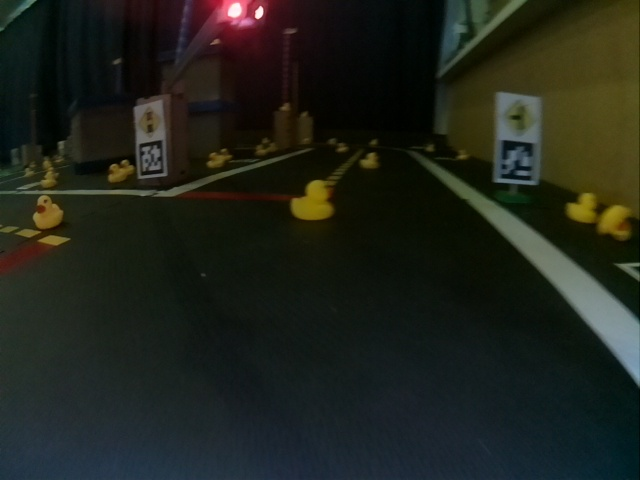Duckie: (290, 181, 332, 220), (599, 205, 630, 240), (32, 198, 63, 230), (566, 193, 597, 222), (108, 166, 127, 183), (361, 152, 379, 168), (40, 172, 57, 187), (207, 153, 224, 167), (121, 160, 134, 175), (337, 142, 344, 151)
Intersection sign: (501, 98, 539, 134)
QR code: (498, 141, 534, 183), (135, 140, 167, 176)
Signal sign: (138, 107, 165, 139)
Traffic light: (214, 2, 266, 30)
